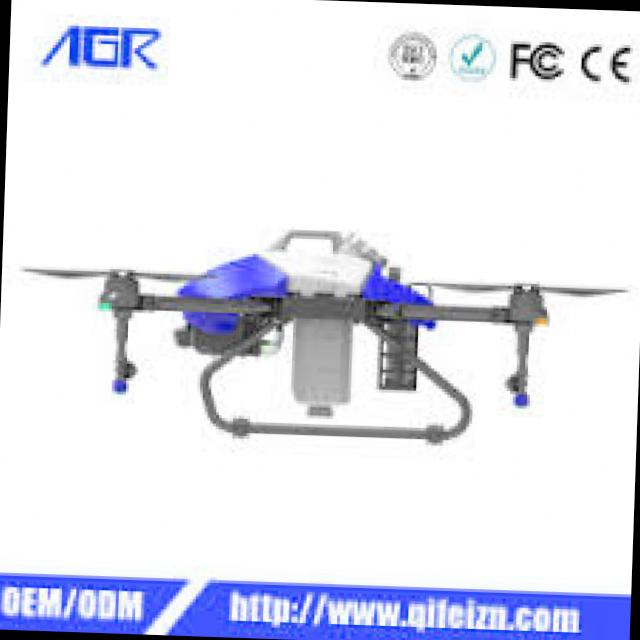drone: (29, 198, 618, 474)
